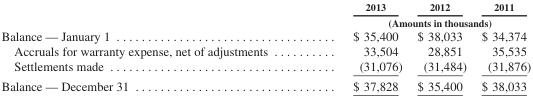table: (0, 1, 530, 92)
table column: (0, 1, 309, 92), (309, 1, 409, 92), (409, 1, 473, 92), (473, 1, 530, 92)
table column header: (0, 1, 530, 28)
table row: (0, 58, 530, 75), (0, 75, 530, 92), (0, 28, 530, 43), (0, 43, 530, 58), (0, 14, 530, 28), (0, 1, 530, 14)
table spanning cell: (309, 14, 530, 28)
